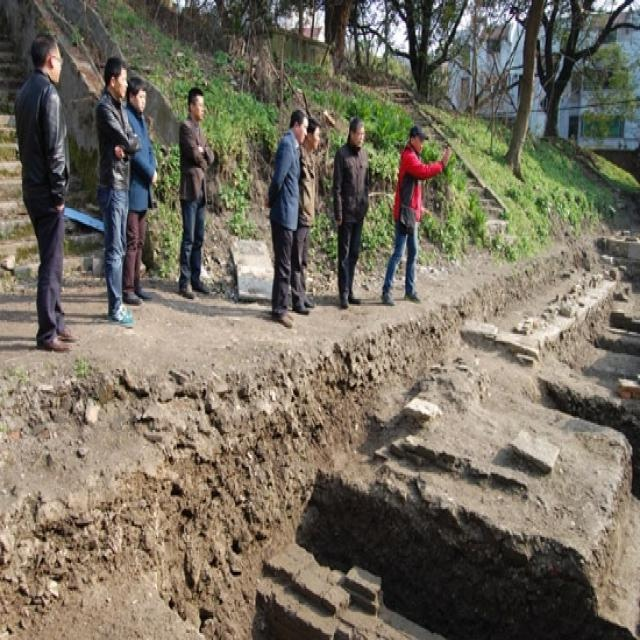Sin_Casco_Mascarrilla: (103, 57, 129, 96), (289, 109, 310, 141), (186, 86, 205, 119), (348, 114, 366, 144)
Sin_Chaleco: (14, 75, 74, 202), (393, 149, 427, 224), (179, 120, 209, 200)
